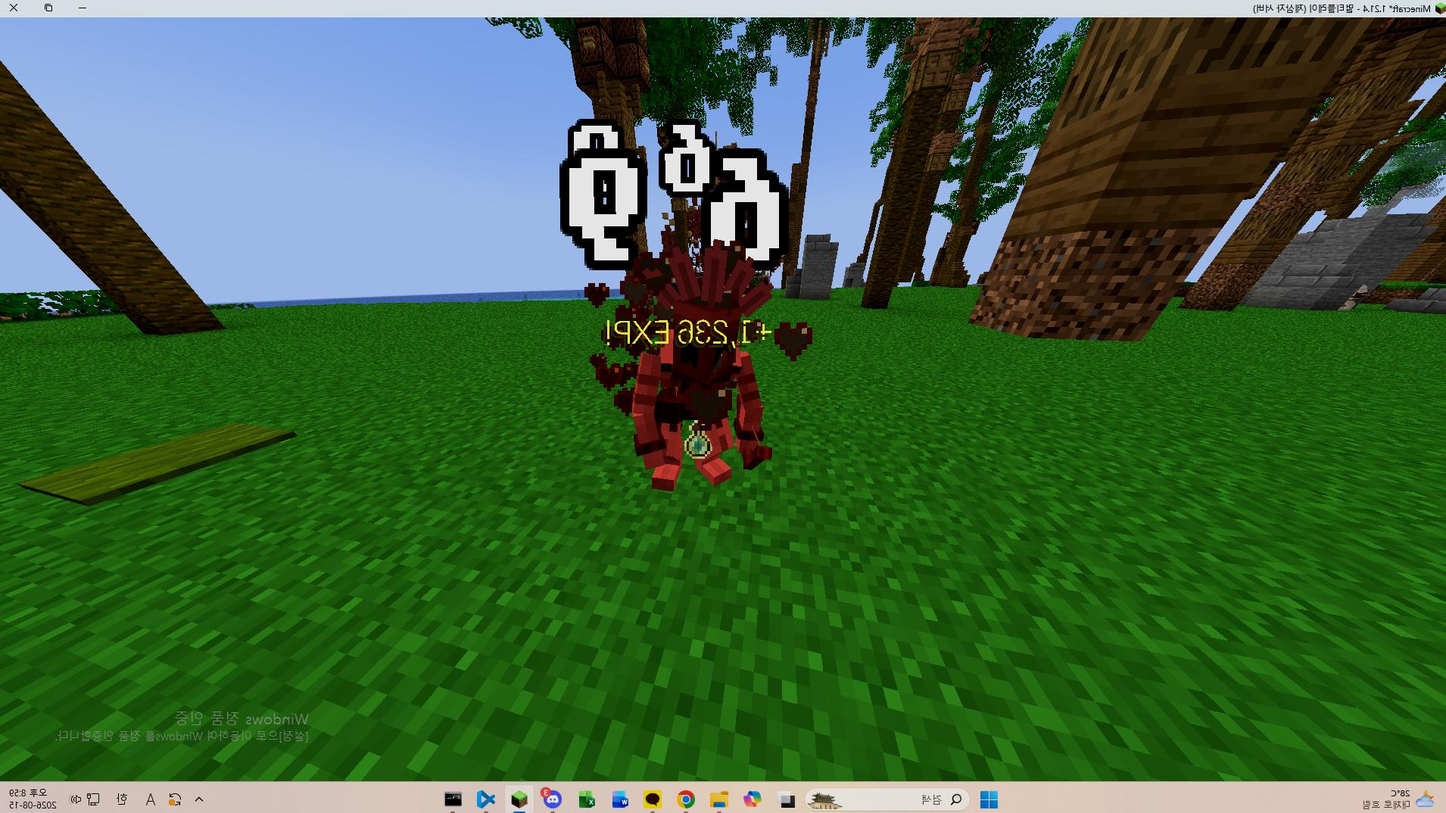bow_indian: (577, 225, 837, 530)
